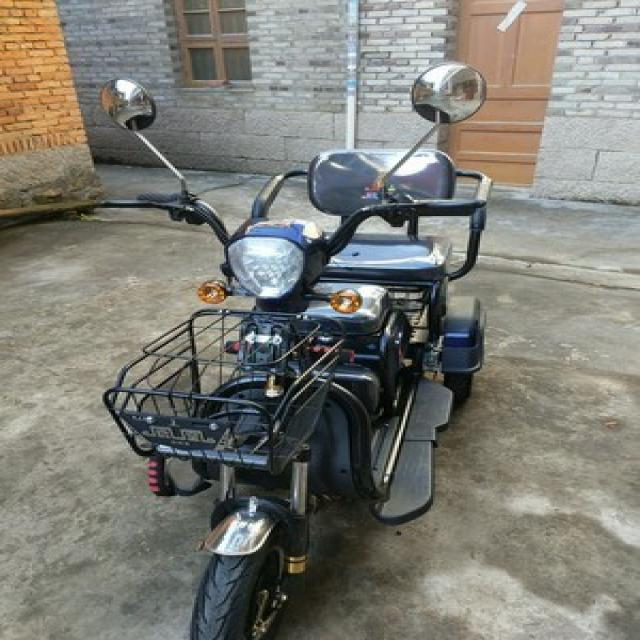tricycle: (70, 58, 493, 636)
